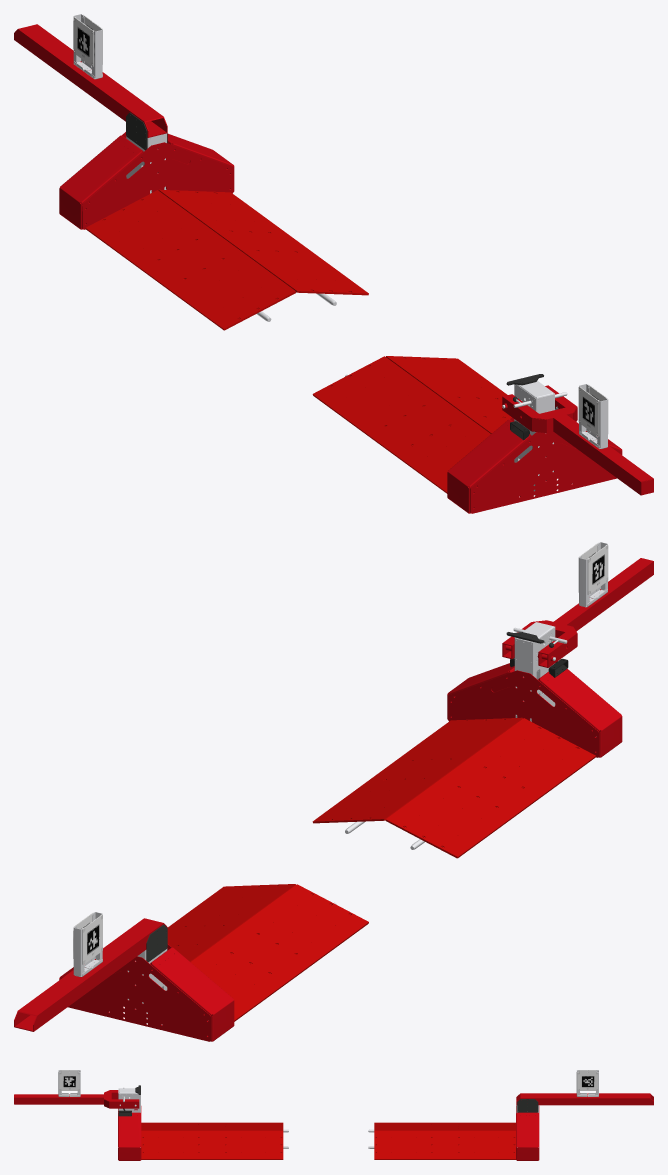
Rendered from BumpAndTrench.fbx.
The picture shows the model from 3 angles, top to bottom: view 1: azimuth 30°, elevation 25°; view 2: azimuth 150°, elevation 25°; view 3: azimuth 270°, elevation 25°; orthographic projection. The views are drawn at different scales.
Parts seen in each view (by area): view 1: GE-26101: Bump Plastic.004, GE-26101: Bump Plastic.001, GE-26101: Bump Plastic.005, GE-26211: Trench Outside Skirt.003, GE-26212: Trench Inside Skirt.002, GE-26101: Bump Plastic, GE-26224: Trench Fixed Arm.001, GE-26213: Trench Side Skirt.004, GE-26213: Trench Side Skirt.007, GE-26214-01: Trench Hinged Arm Main Tube.001, GE-26205-01: Trench Hinged Riser Outside Body.001, FE-00083-ID7-Vinyl: AprilTag Vinyl.001 (+1 smaller); view 2: GE-26101: Bump Plastic.001, GE-26101: Bump Plastic.004, GE-26101: Bump Plastic, GE-26211: Trench Outside Skirt.002, GE-26212: Trench Inside Skirt.003, GE-26101: Bump Plastic.005, GE-26224: Trench Fixed Arm.001, GE-26213: Trench Side Skirt.004, GE-26213: Trench Side Skirt.007, GE-26214-01: Trench Hinged Arm Main Tube.001, GE-26205-01: Trench Hinged Riser Outside Body.001, GE-26214-03: Trench Hinged Arm Side Tube.003 (+2 smaller); view 3: GE-26101: Bump Plastic, GE-26101: Bump Plastic.005, GE-26224: Trench Fixed Arm.001, GE-26101: Bump Plastic.001, GE-26101: Bump Plastic.004, GE-26213: Trench Side Skirt.005, GE-26213: Trench Side Skirt.006, GE-26214-01: Trench Hinged Arm Main Tube.001, FE-00083-ID1-Vinyl: AprilTag Vinyl, FE-00083-ID6-Vinyl: AprilTag Vinyl, GE-26214-03: Trench Hinged Arm Side Tube.002, GE-26225: Trench Fixed Arm Bracket.002 (+1 smaller).
Part boxes in pixels (x1,y1,x2,y2): GE-26101: Bump Plastic.004: (85, 190, 295, 330); GE-26101: Bump Plastic.001: (312, 356, 490, 493); GE-26101: Bump Plastic.005: (158, 189, 368, 295); GE-26211: Trench Outside Skirt.003: (470, 431, 621, 513); GE-26212: Trench Inside Skirt.002: (82, 142, 233, 229); GE-26101: Bump Plastic: (386, 356, 511, 433); GE-26224: Trench Fixed Arm.001: (14, 24, 167, 137); GE-26213: Trench Side Skirt.004: (59, 135, 143, 229); GE-26213: Trench Side Skirt.007: (447, 419, 531, 513); GE-26214-01: Trench Hinged Arm Main Tube.001: (553, 414, 653, 495); GE-26205-01: Trench Hinged Riser Outside Body.001: (514, 384, 554, 495); FE-00083-ID7-Vinyl: AprilTag Vinyl.001: (73, 19, 93, 65); GE-26101: Bump Plastic.001: (385, 718, 595, 858); GE-26101: Bump Plastic.004: (191, 884, 368, 1021); GE-26101: Bump Plastic: (312, 717, 522, 823); GE-26211: Trench Outside Skirt.002: (60, 956, 211, 1041); GE-26212: Trench Inside Skirt.003: (448, 670, 599, 757); GE-26101: Bump Plastic.005: (167, 884, 295, 961); GE-26224: Trench Fixed Arm.001: (14, 918, 167, 1031); GE-26213: Trench Side Skirt.004: (150, 947, 234, 1041); GE-26213: Trench Side Skirt.007: (538, 669, 622, 757); GE-26214-01: Trench Hinged Arm Main Tube.001: (553, 558, 653, 631); GE-26205-01: Trench Hinged Riser Outside Body.001: (515, 626, 555, 721); GE-26214-03: Trench Hinged Arm Side Tube.003: (538, 627, 577, 667); GE-26101: Bump Plastic: (141, 1130, 283, 1159); GE-26101: Bump Plastic.005: (374, 1130, 515, 1159); GE-26224: Trench Fixed Arm.001: (516, 1093, 653, 1105); GE-26101: Bump Plastic.001: (141, 1122, 283, 1130); GE-26101: Bump Plastic.004: (374, 1122, 515, 1130); GE-26213: Trench Side Skirt.005: (516, 1112, 538, 1160); GE-26213: Trench Side Skirt.006: (118, 1112, 140, 1160); GE-26214-01: Trench Hinged Arm Main Tube.001: (14, 1094, 103, 1104); FE-00083-ID1-Vinyl: AprilTag Vinyl: (59, 1072, 79, 1090); FE-00083-ID6-Vinyl: AprilTag Vinyl: (577, 1072, 597, 1090); GE-26214-03: Trench Hinged Arm Side Tube.002: (104, 1099, 139, 1108); GE-26225: Trench Fixed Arm Bracket.002: (517, 1099, 538, 1112).
Size of the model in its own units: 119 by 102 by 837.
